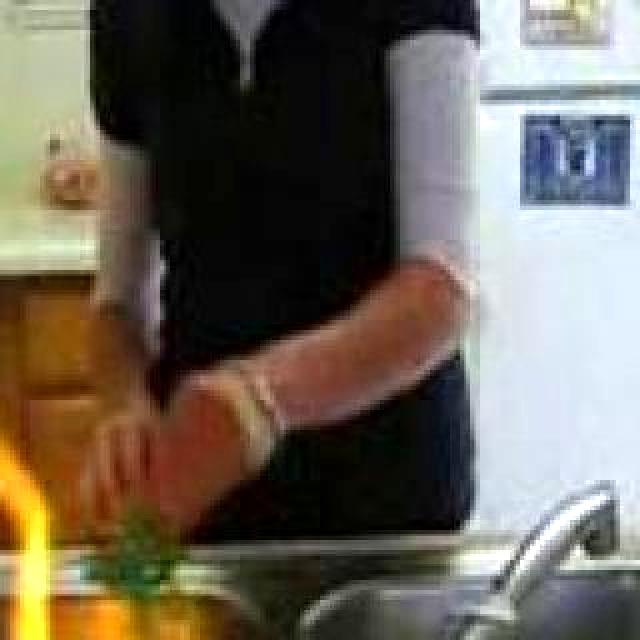fire: (0, 500, 136, 640)
